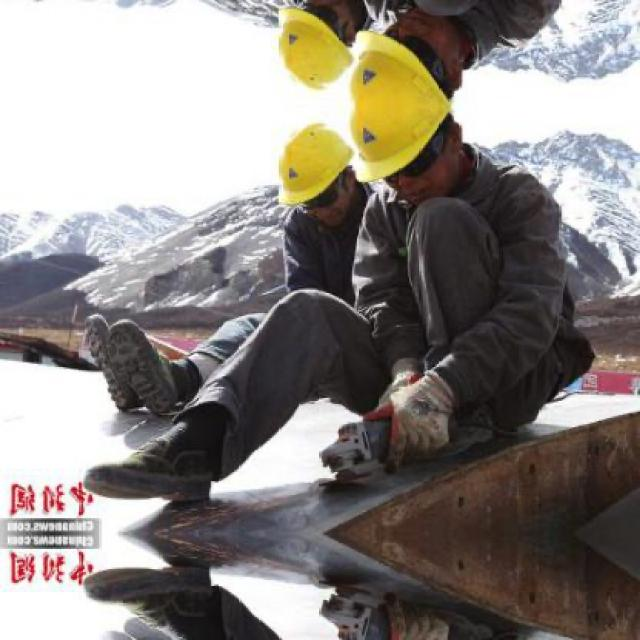helmet: (335, 106, 480, 213), (335, 1, 480, 108), (262, 111, 372, 228), (260, 0, 373, 103)
